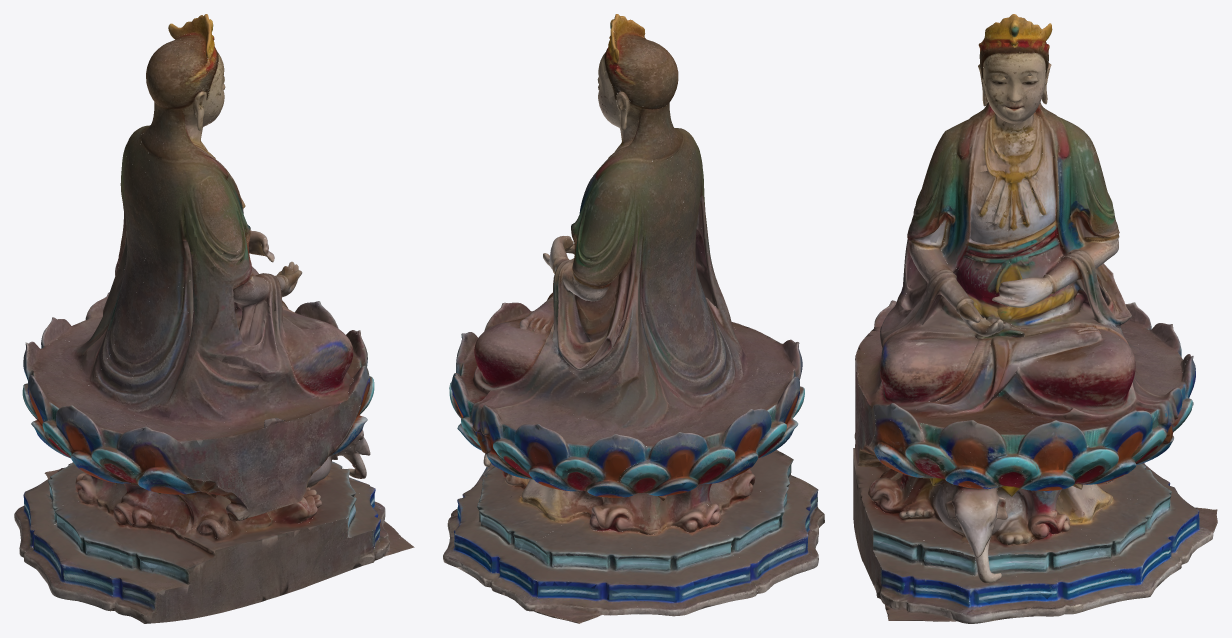
File: f2-samantabhadra-elephant.glb
3 views of the same model, side by side, from view 1: azimuth 30°, elevation 25°; view 2: azimuth 150°, elevation 25°; view 3: azimuth 270°, elevation 25° (orthographic).
Visible parts, largest first — view 1: tripo_node_353edd9d-1057-46ba-a9cc-7bc0e92e2877; view 2: tripo_node_353edd9d-1057-46ba-a9cc-7bc0e92e2877; view 3: tripo_node_353edd9d-1057-46ba-a9cc-7bc0e92e2877.
Boxes of the visible parts, box(x1,y1,x2,y2) form: tripo_node_353edd9d-1057-46ba-a9cc-7bc0e92e2877: box(14, 14, 414, 623); tripo_node_353edd9d-1057-46ba-a9cc-7bc0e92e2877: box(443, 14, 824, 623); tripo_node_353edd9d-1057-46ba-a9cc-7bc0e92e2877: box(853, 14, 1217, 623).
Bounding box in the file's own units: 0.6617 × 1 × 0.6167.
1 material, 1 textured.
